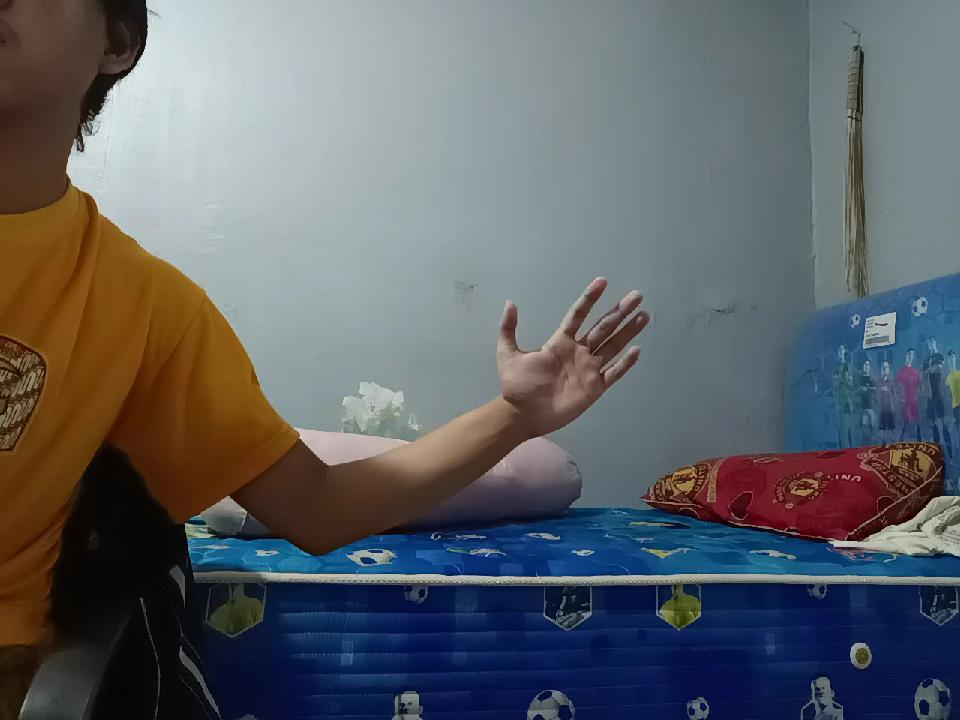paper: (488, 263, 644, 427)
